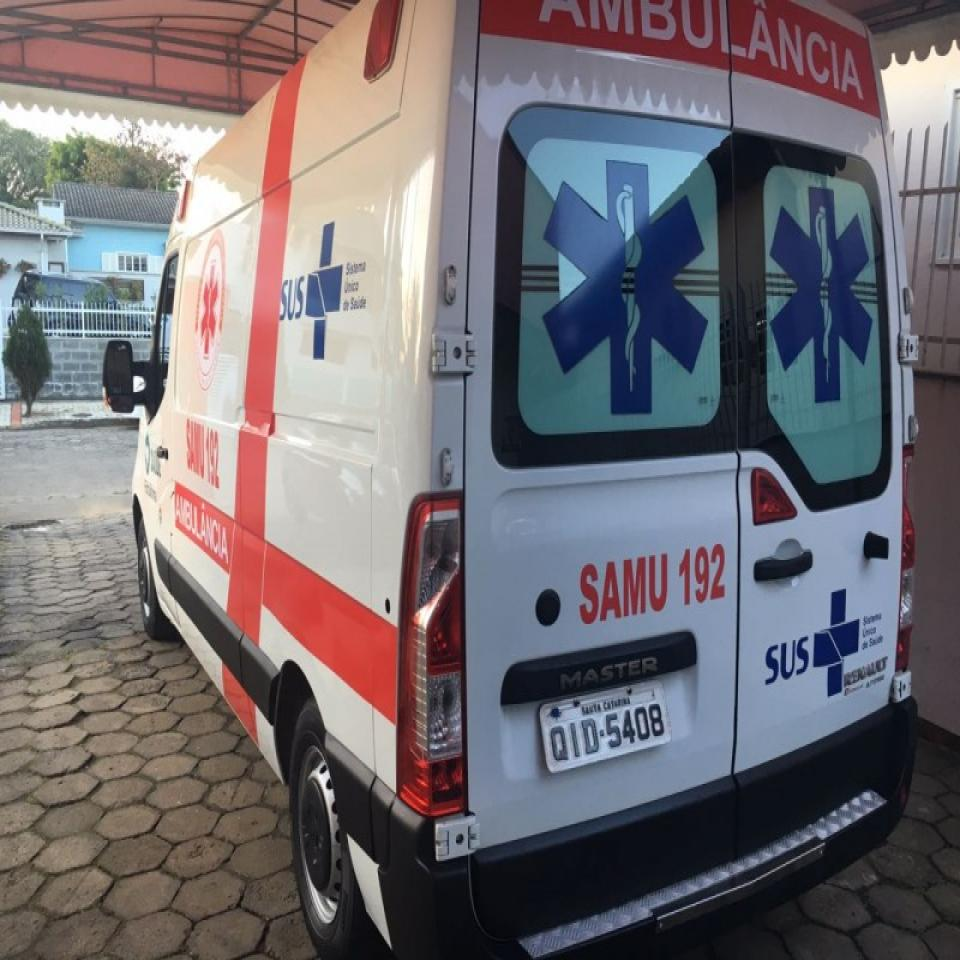bombeiro: (100, 0, 924, 960)
